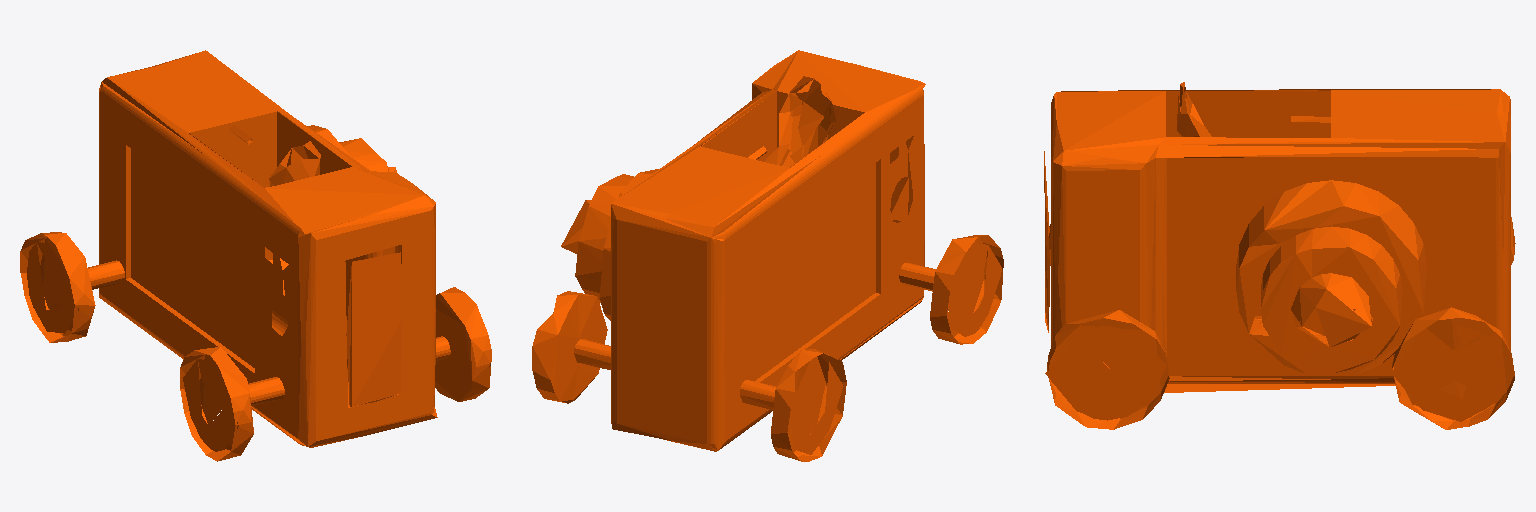
robot.urdf — Camera_f1558b9324187ad5ee9f6e6cbbdc436f:
<?xml version="1.0" ?>
<robot name="Camera_f1558b9324187ad5ee9f6e6cbbdc436f">
   <material name="obj_color">
      <color rgba="1.0 0.423529411765 0.0392156862745 1.0"/>
   </material>
   <link name="top">
      <inertial>
         <origin rpy="0.001083461158845875 0.001780043707864589 0.001959502842200841" xyz="-0.002970249695478377 0.003078560165304275 -0.002099266299853098"/>
         <mass value="0.9217967998903506"/>
         <inertia ixx="0.001784469333336497" ixy="-6.093826497358536e-07" ixz="-2.78256190943017e-05" iyy="0.001083807876338948" iyz="1.738046753008018e-05" izz="0.00195473049923586"/>
      </inertial>
      <visual>
         <origin rpy="0 0 0" xyz="0 0 0"/>
         <geometry>
            <mesh filename="top_watertight_tiny.stl" scale="1 1 1"/>
         </geometry>
         <material name="obj_color"/>
      </visual>
      <collision>
         <origin rpy="0 0 0" xyz="0 0 0"/>
         <geometry>
            <mesh filename="top_watertight_tiny.obj" scale="1 1 1"/>
         </geometry>
      </collision>
   </link>
   <link name="bottom">
      <inertial>
         <origin rpy="1.633333333331402e-08 1.633333333331402e-08 1.633333333331402e-08" xyz="0.08660200000000004 0.08660200000000004 0.08660200000000004"/>
         <mass value="0.0009800000000000026"/>
         <inertia ixx="1.633333333331402e-08" ixy="-0" ixz="-0" iyy="1.633333333331402e-08" iyz="-0" izz="1.633333333331402e-08"/>
      </inertial>
      <visual>
         <origin rpy="0 0 0" xyz="0 0 0"/>
         <geometry>
            <mesh filename="bottom_watertight_tiny.stl" scale="1 1 1"/>
         </geometry>
         <material name="obj_color"/>
      </visual>
   </link>
   <joint name="rotation" type="revolute">
      <origin xyz="0 0 0"/>
      <axis xyz="0 0 -1"/>
      <parent link="bottom"/>
      <child link="top"/>
      <dynamics damping="1.0" friction="1.0"/>
      <limit effort="0.1" velocity="0.1" lower="0" upper="0.001"/>
   </joint>
</robot>

--- Render facts (derived) ---
Views: 3 orthographic renders of the robot side by side, from view 1: azimuth 30°, elevation 25°; view 2: azimuth 150°, elevation 25°; view 3: azimuth 270°, elevation 25°.
Model Camera_f1558b9324187ad5ee9f6e6cbbdc436f with 2 links and 1 joints (1 revolute), rooted at bottom, posed all joints at 0.
Visible links, largest first — view 1: top; view 2: top; view 3: top.
Link boxes in pixels (x1,y1,x2,y2): top: (20, 50, 491, 461); top: (532, 50, 1003, 461); top: (1044, 82, 1515, 429).
Bounding box of the posed robot: 0.1078 × 0.137 × 0.0897 m (x, y, z).
1 mesh visuals loaded from 2 distinct referenced files (1 binary STL); not drawn: 1 (reference not matched to a file when rendering).